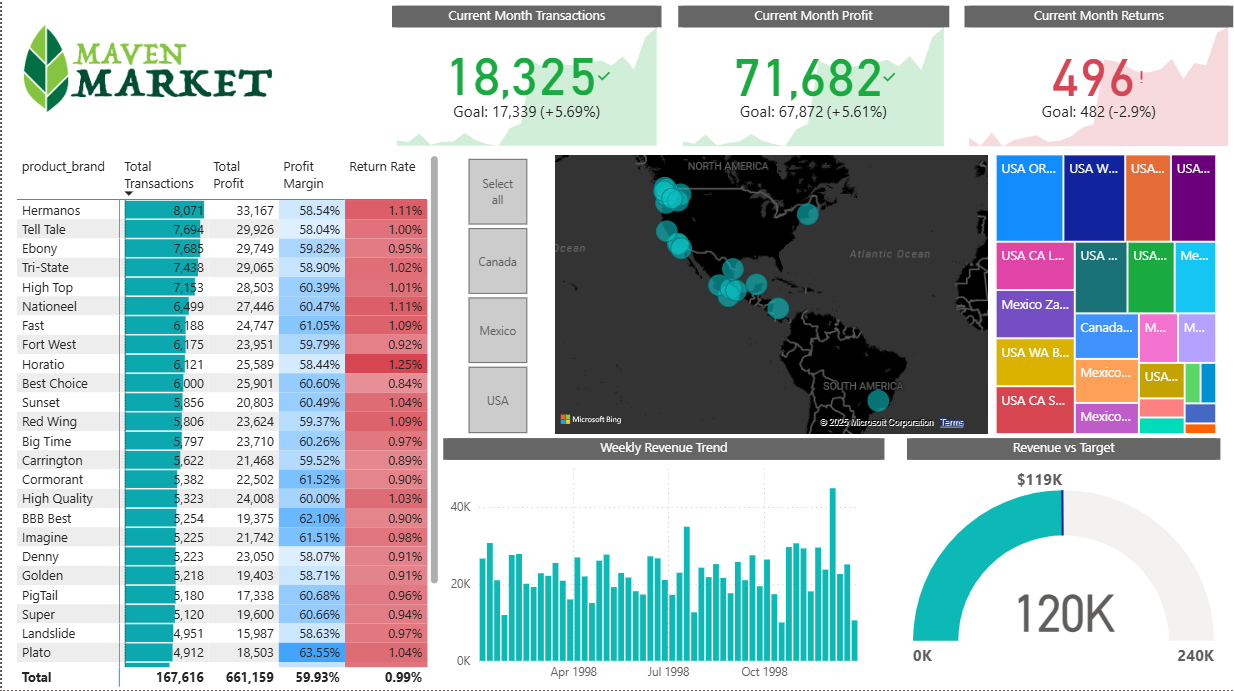

What the dashboard file says about the page in this screenshot:
{"tool":"powerbi","page":{"name":"Top line Performance","canvas":[1280,720],"ordinal":0},"visuals":[{"type":"image","box":[10,0,280.2,147.9],"z":0},{"type":"kpi","title":"Current Month Transactions","fields":{"Indicator":["Measure table.Total Transactions"],"Goal":["Measure table.Last month Transaction"],"TrendLine":["Calendar.Start of Month"]},"box":[405.3,8.9,280.2,150.8],"z":1000},{"type":"kpi","title":"Current Month Profit","fields":{"TrendLine":["Calendar.Start of Month"],"Indicator":["Measure table.Total Profit"],"Goal":["Measure table.Last Month Profit"]},"box":[702.3,8.9,281.2,151.3],"z":2000},{"type":"kpi","title":"Current Month Returns","fields":{"TrendLine":["Calendar.Start of Month"],"Indicator":["Measure table.Total Returns"],"Goal":["Measure table.Last Month Returns"]},"box":[1000.2,8.9,279.4,151.3],"z":3000},{"type":"pivotTable","fields":{"Rows":["Products.product_brand"],"Values":["Measure table.Total Transactions","Measure table.Total Profit","Measure table.Profit Margin","Measure table.Return Rate"]},"box":[10,160,448.6,561.4],"z":4000},{"type":"map","fields":{"Category":["Stores.store_city"]},"box":[570,160,458.6,298.6],"z":5000},{"type":"slicer","fields":{"Values":["Stores.store_country"]},"box":[458,160.7,110.9,298.7],"z":6000},{"type":"treemap","fields":{"Values":["Measure table.Total Transactions"],"Group":["Stores.store_country","Stores.store_state","Stores.store_city"]},"box":[1028.6,160,237.1,298.6],"z":7000},{"type":"clusteredColumnChart","title":"Weekly Revenue Trend","fields":{"Category":["Calendar.Start of Week"],"Y":["Measure table.Total_Revenue"]},"box":[458.6,458.6,458.6,261.4],"z":8000},{"type":"gauge","title":"Revenue vs Target","fields":{"Y":["Measure table.Total_Revenue"],"TargetValue":["Measure table.Revenue Target"]},"box":[940,458.6,325.7,247.1],"z":9000}]}

Visuals, with their boxes in screenshot pixels (x1, y1, x2, y2), scaled from the page's 1280x720 canvas onto the 1234x691 screenshot:
image: BBox(10, 0, 280, 142)
"Current Month Transactions" kpi: BBox(391, 9, 661, 153)
"Current Month Profit" kpi: BBox(677, 9, 948, 154)
"Current Month Returns" kpi: BBox(964, 9, 1233, 154)
pivotTable - Products.product_brand x Measure table.Total Transactions: BBox(10, 154, 442, 690)
map - Stores.store_city: BBox(550, 154, 992, 440)
slicer - Stores.store_country: BBox(442, 154, 548, 441)
treemap - Measure table.Total Transactions x Stores.store_country: BBox(992, 154, 1220, 440)
"Weekly Revenue Trend" clusteredColumnChart: BBox(442, 440, 884, 690)
"Revenue vs Target" gauge: BBox(906, 440, 1220, 677)
